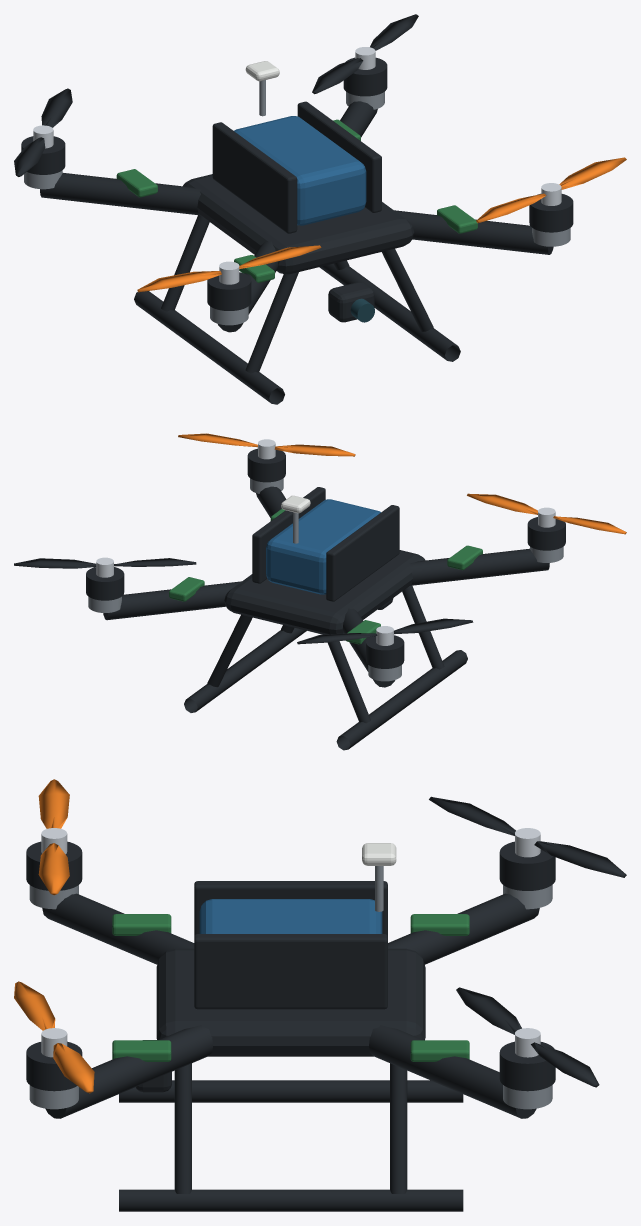
The model's file is desktop-quadcopter.glb.
The picture shows the model from 3 angles, top to bottom: view 1: azimuth 30°, elevation 25°; view 2: azimuth 150°, elevation 25°; view 3: azimuth 270°, elevation 25°; orthographic projection. The views are drawn at different scales.
Visible parts, largest first — view 1: quadcopter-innerscene, Original_blades_1, Original_blades_0, Original_blades_3, Original_blades_2; view 2: quadcopter-innerscene, Original_blades_0, Original_blades_3, Original_blades_2, Original_blades_1; view 3: quadcopter-innerscene, Original_blades_2, Original_blades_3, Original_blades_0, Original_blades_1.
Boxes of the visible parts, x1,y1,x2,y2 form: quadcopter-innerscene: (21,41,582,404); Original_blades_1: (137,245,321,292); Original_blades_0: (476,157,626,222); Original_blades_3: (312,14,418,94); Original_blades_2: (14,88,72,176); quadcopter-innerscene: (75,439,567,750); Original_blades_0: (178,433,355,456); Original_blades_3: (14,558,196,568); Original_blades_2: (297,618,473,644); Original_blades_1: (467,493,626,534); quadcopter-innerscene: (26,817,556,1211); Original_blades_2: (429,796,626,877); Original_blades_3: (456,987,599,1087); Original_blades_0: (14,981,94,1093); Original_blades_1: (38,779,69,895).
Bounding box in the file's own units: 0.6844 × 0.316 × 0.5697.
